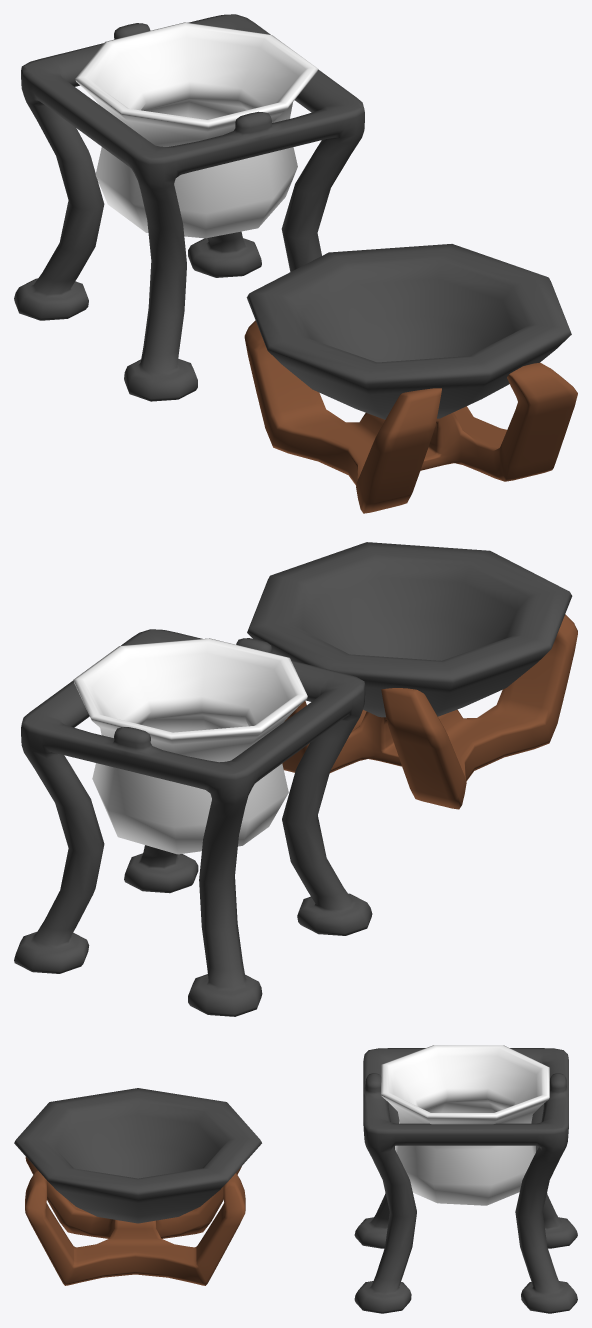
Rendered from Coal Pit.fbx.
3 views of the same model, one above another, from view 1: azimuth 30°, elevation 25°; view 2: azimuth 150°, elevation 25°; view 3: azimuth 270°, elevation 25° (orthographic). The views are drawn at different scales.
Visible parts, largest first — view 1: Cube, Cube.001, Cube.002, Cube.003; view 2: Cube, Cube.001, Cube.002, Cube.003; view 3: Cube.001, Cube, Cube.002, Cube.003.
Boxes of the visible parts, <box> form: Cube: <box>14,14,364,401</box>; Cube.001: <box>246,244,571,419</box>; Cube.002: <box>75,22,317,238</box>; Cube.003: <box>244,320,577,513</box>; Cube: <box>14,629,372,1016</box>; Cube.001: <box>247,542,572,717</box>; Cube.002: <box>73,638,307,854</box>; Cube.003: <box>282,614,577,809</box>; Cube.001: <box>14,1088,261,1223</box>; Cube: <box>354,1048,577,1313</box>; Cube.002: <box>381,1045,549,1205</box>; Cube.003: <box>25,1156,245,1285</box>.
Bounding box in the file's own units: 454 × 391 × 1032.
